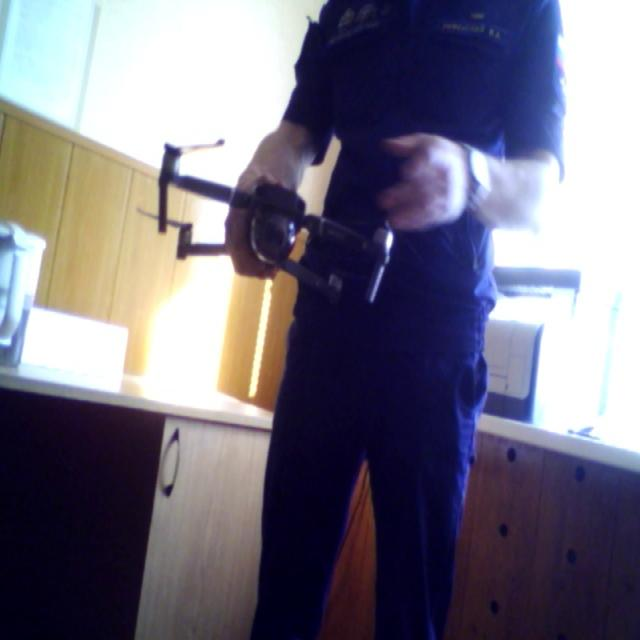drone: (139, 119, 409, 327)
